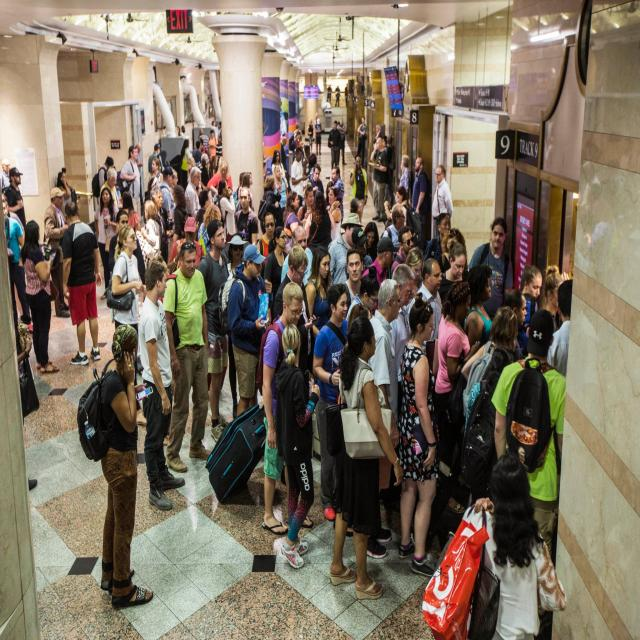body: (75, 322, 155, 610), (326, 315, 404, 601), (462, 451, 570, 640), (489, 308, 568, 565), (254, 278, 315, 537), (394, 291, 442, 578), (273, 320, 322, 570), (137, 258, 185, 511), (162, 240, 212, 474), (366, 278, 402, 560), (432, 279, 472, 513), (312, 283, 349, 522), (227, 244, 273, 418), (197, 219, 230, 443), (59, 200, 102, 366), (20, 220, 61, 374), (272, 247, 319, 374), (220, 233, 250, 421), (468, 215, 514, 322), (13, 314, 40, 491), (388, 262, 416, 428), (1, 196, 34, 335), (110, 224, 148, 326), (43, 186, 71, 318), (408, 256, 443, 356), (362, 236, 401, 317), (326, 211, 366, 287), (94, 187, 120, 300), (305, 246, 333, 342), (384, 185, 423, 248), (464, 262, 493, 344), (519, 263, 543, 360), (302, 190, 336, 257), (167, 216, 204, 274), (256, 210, 288, 275), (116, 144, 142, 223), (438, 240, 467, 308), (135, 199, 163, 268), (150, 186, 174, 266), (344, 274, 382, 324), (338, 247, 364, 320), (411, 155, 430, 254), (503, 288, 528, 363), (423, 212, 452, 274), (368, 136, 388, 223), (264, 225, 288, 297), (432, 164, 454, 240), (257, 174, 283, 236), (380, 202, 408, 259), (4, 166, 27, 233), (234, 186, 259, 246), (405, 247, 424, 325), (282, 190, 305, 254), (215, 179, 237, 243), (289, 146, 310, 213), (542, 270, 565, 330), (349, 155, 369, 224), (139, 114, 195, 138), (390, 225, 415, 278), (197, 203, 222, 256), (436, 227, 464, 273), (56, 170, 80, 223), (171, 184, 192, 243), (206, 158, 232, 204), (543, 264, 565, 318), (272, 165, 290, 227), (351, 226, 373, 276), (157, 165, 176, 220), (147, 168, 179, 200), (195, 187, 212, 244), (184, 166, 202, 218), (326, 185, 342, 242), (99, 165, 120, 208), (200, 113, 222, 154), (330, 166, 345, 224), (385, 134, 396, 210), (327, 120, 343, 172), (296, 182, 314, 224), (354, 115, 368, 166), (280, 136, 292, 195), (134, 142, 144, 210), (237, 172, 253, 212), (364, 221, 379, 263), (307, 164, 325, 198), (207, 129, 219, 178), (148, 143, 166, 175), (325, 180, 343, 212), (326, 83, 350, 107), (98, 155, 114, 190), (187, 156, 202, 193), (180, 138, 191, 188), (199, 152, 213, 190), (271, 149, 287, 182), (337, 118, 348, 166), (398, 154, 411, 194), (147, 157, 164, 185), (232, 170, 246, 204), (301, 144, 311, 190), (288, 124, 300, 162), (0, 158, 11, 195), (350, 198, 363, 225), (214, 134, 223, 172), (314, 117, 322, 156), (392, 193, 409, 211), (198, 128, 210, 152), (307, 152, 317, 180), (373, 123, 383, 150), (192, 140, 202, 164), (306, 118, 313, 150), (294, 131, 303, 149), (194, 181, 204, 195), (381, 135, 388, 154), (262, 162, 268, 182), (315, 112, 319, 132), (337, 120, 340, 126)
